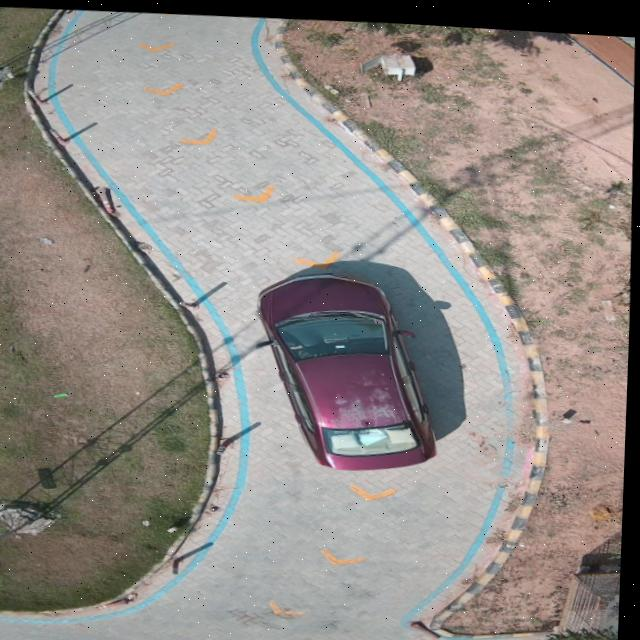car: (260, 268, 439, 464)
